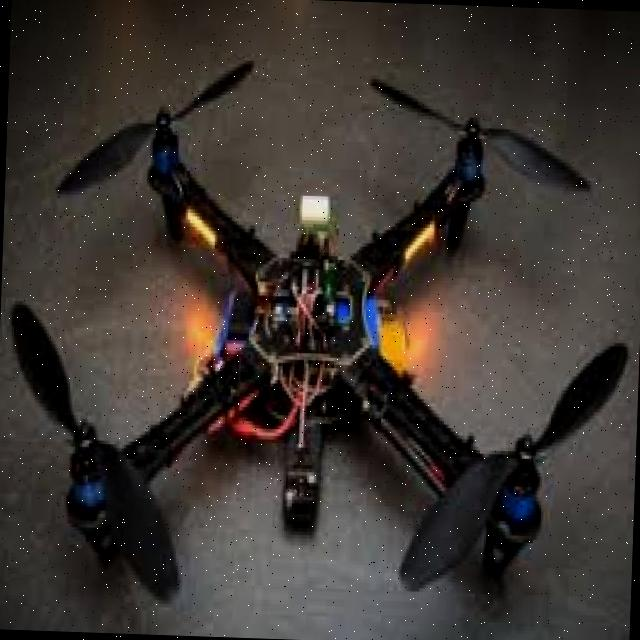drone: (4, 64, 618, 628)
